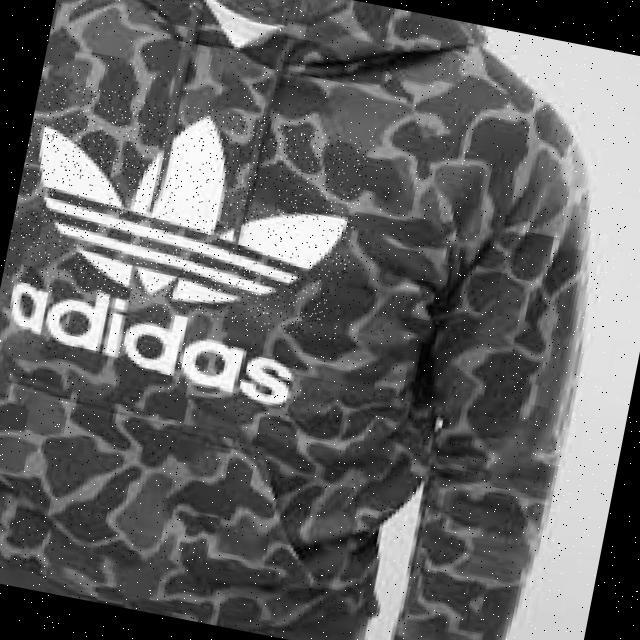Adidas: (2, 76, 373, 343)
